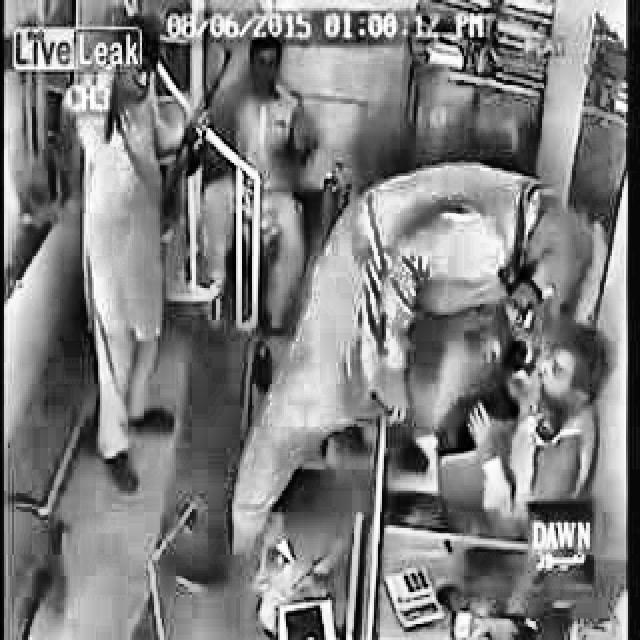Weapon: (368, 162, 594, 514), (38, 8, 174, 515), (246, 42, 333, 200)
